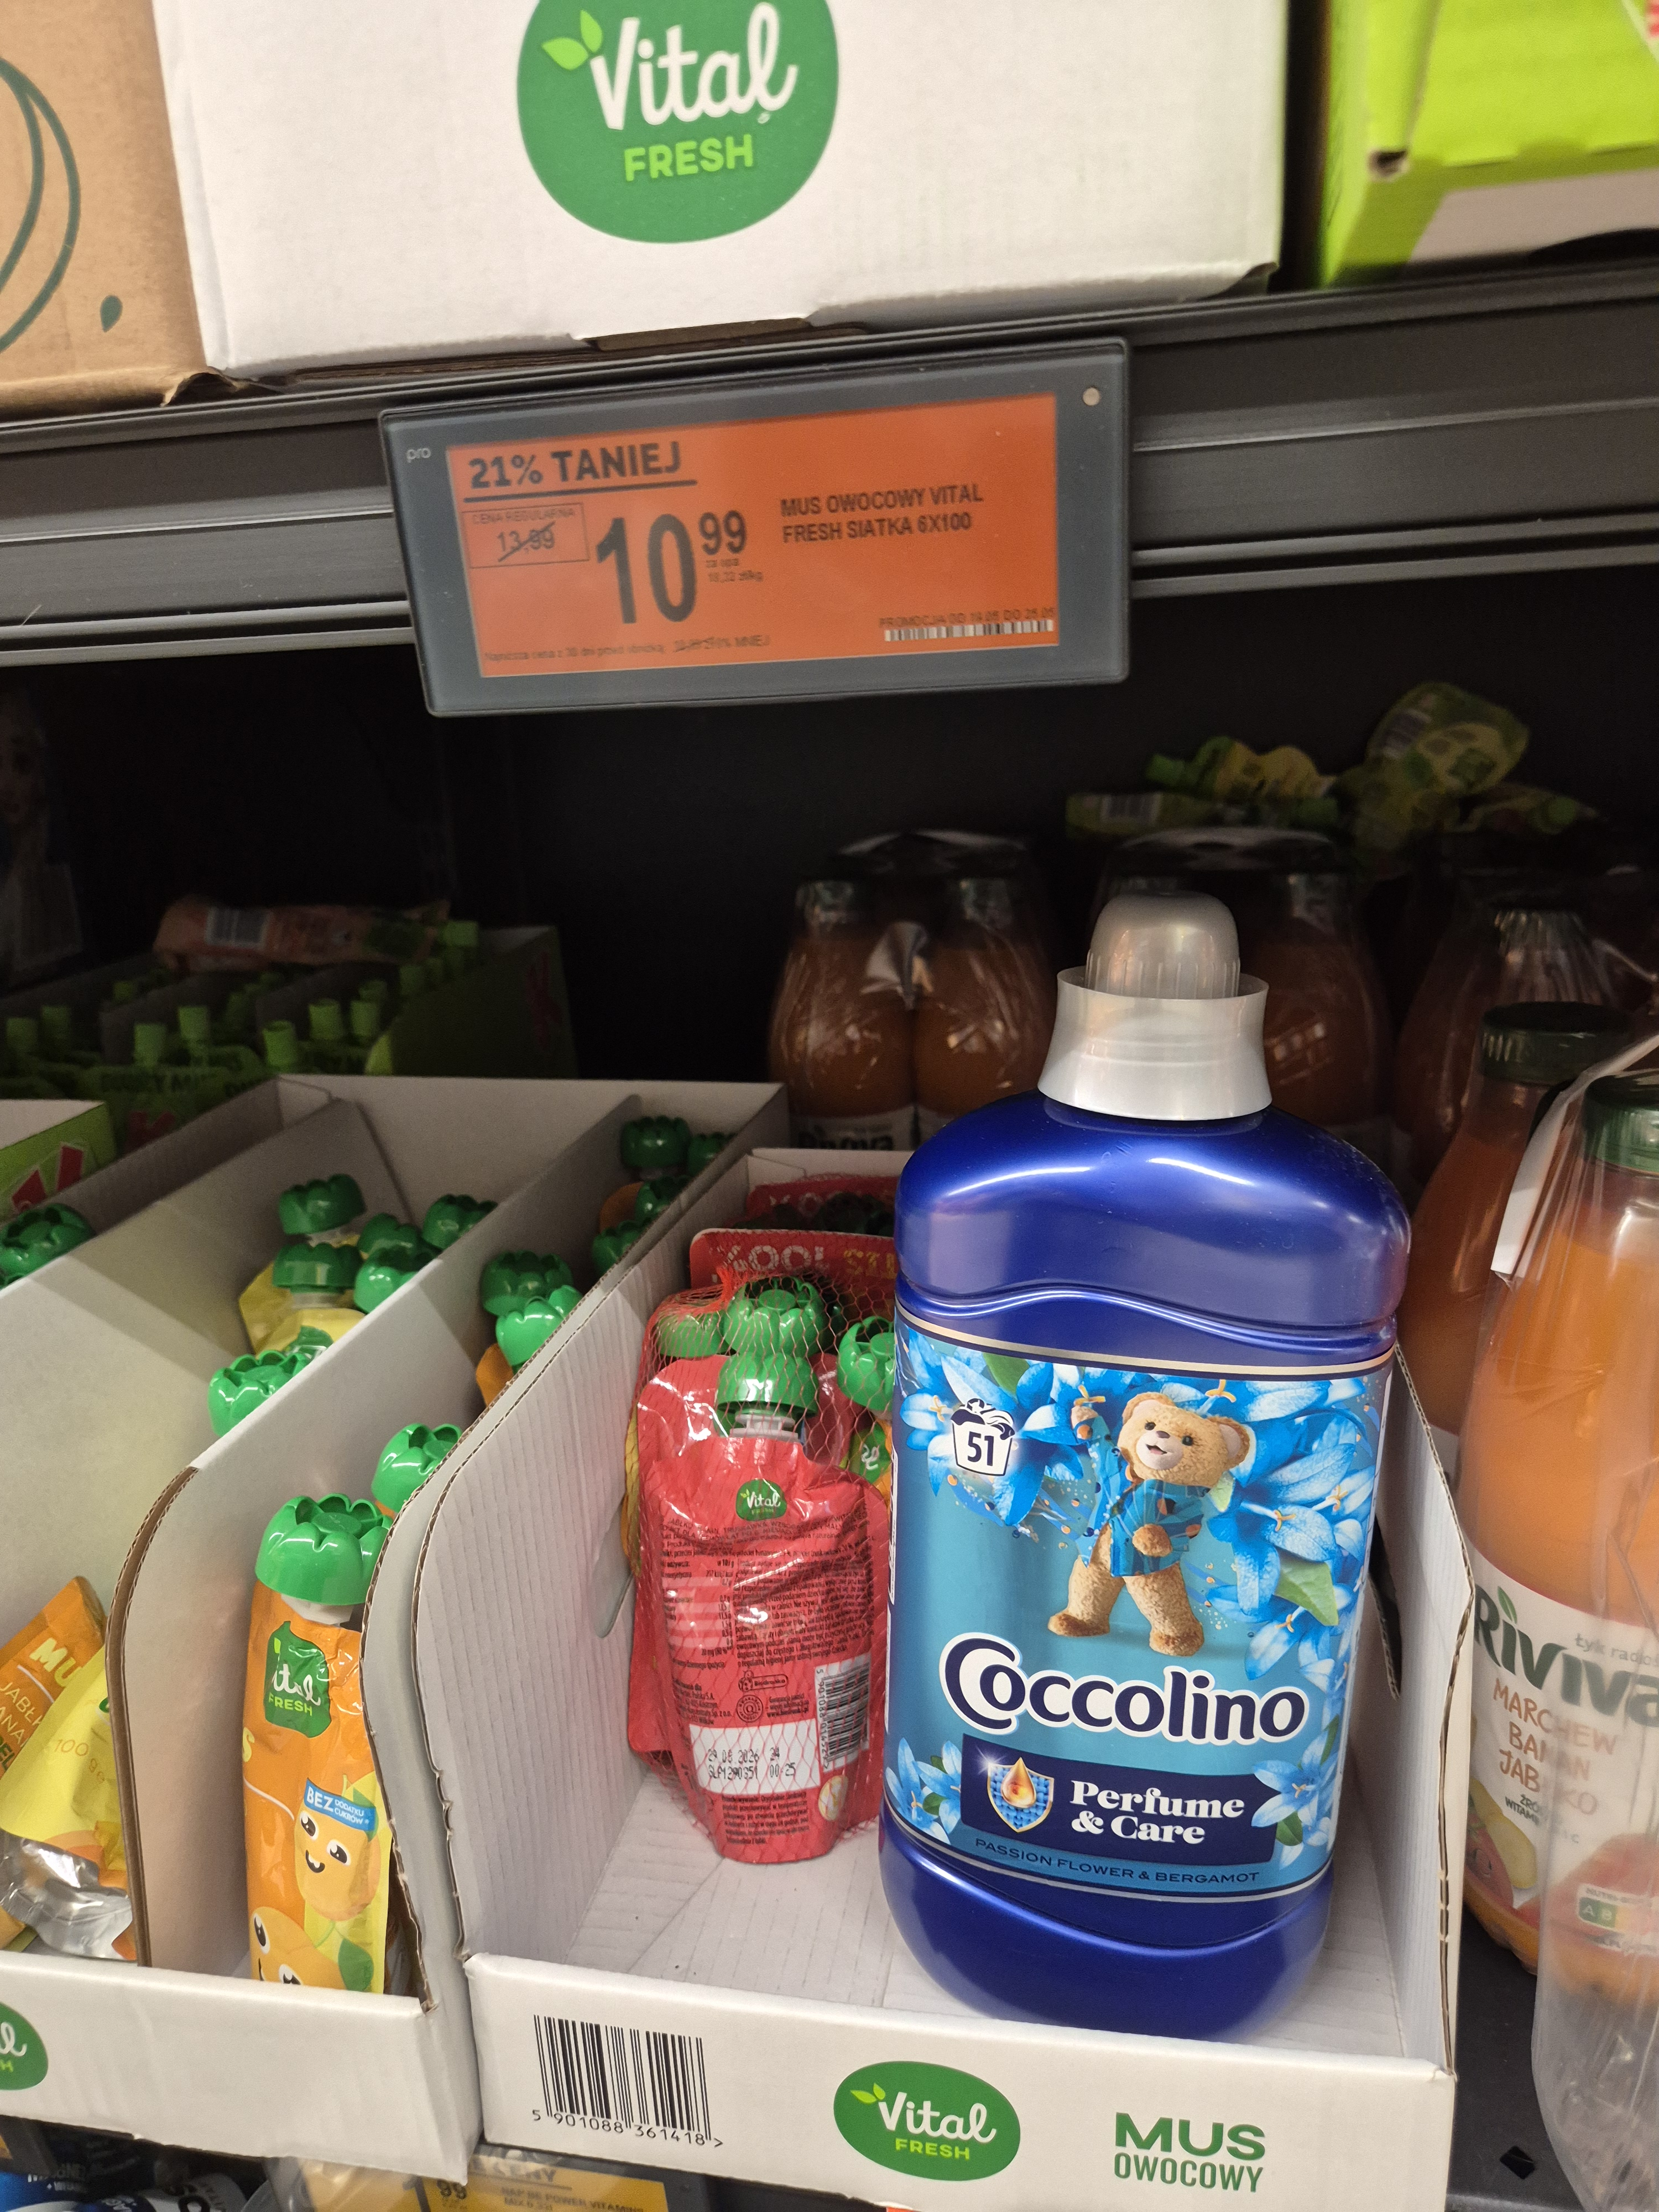cocolino: (896, 894, 1358, 2017)
